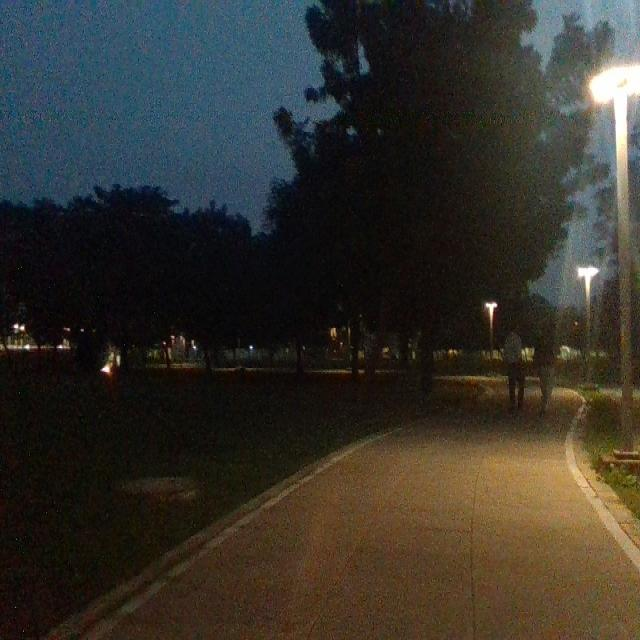lane: (98, 377, 640, 640)
